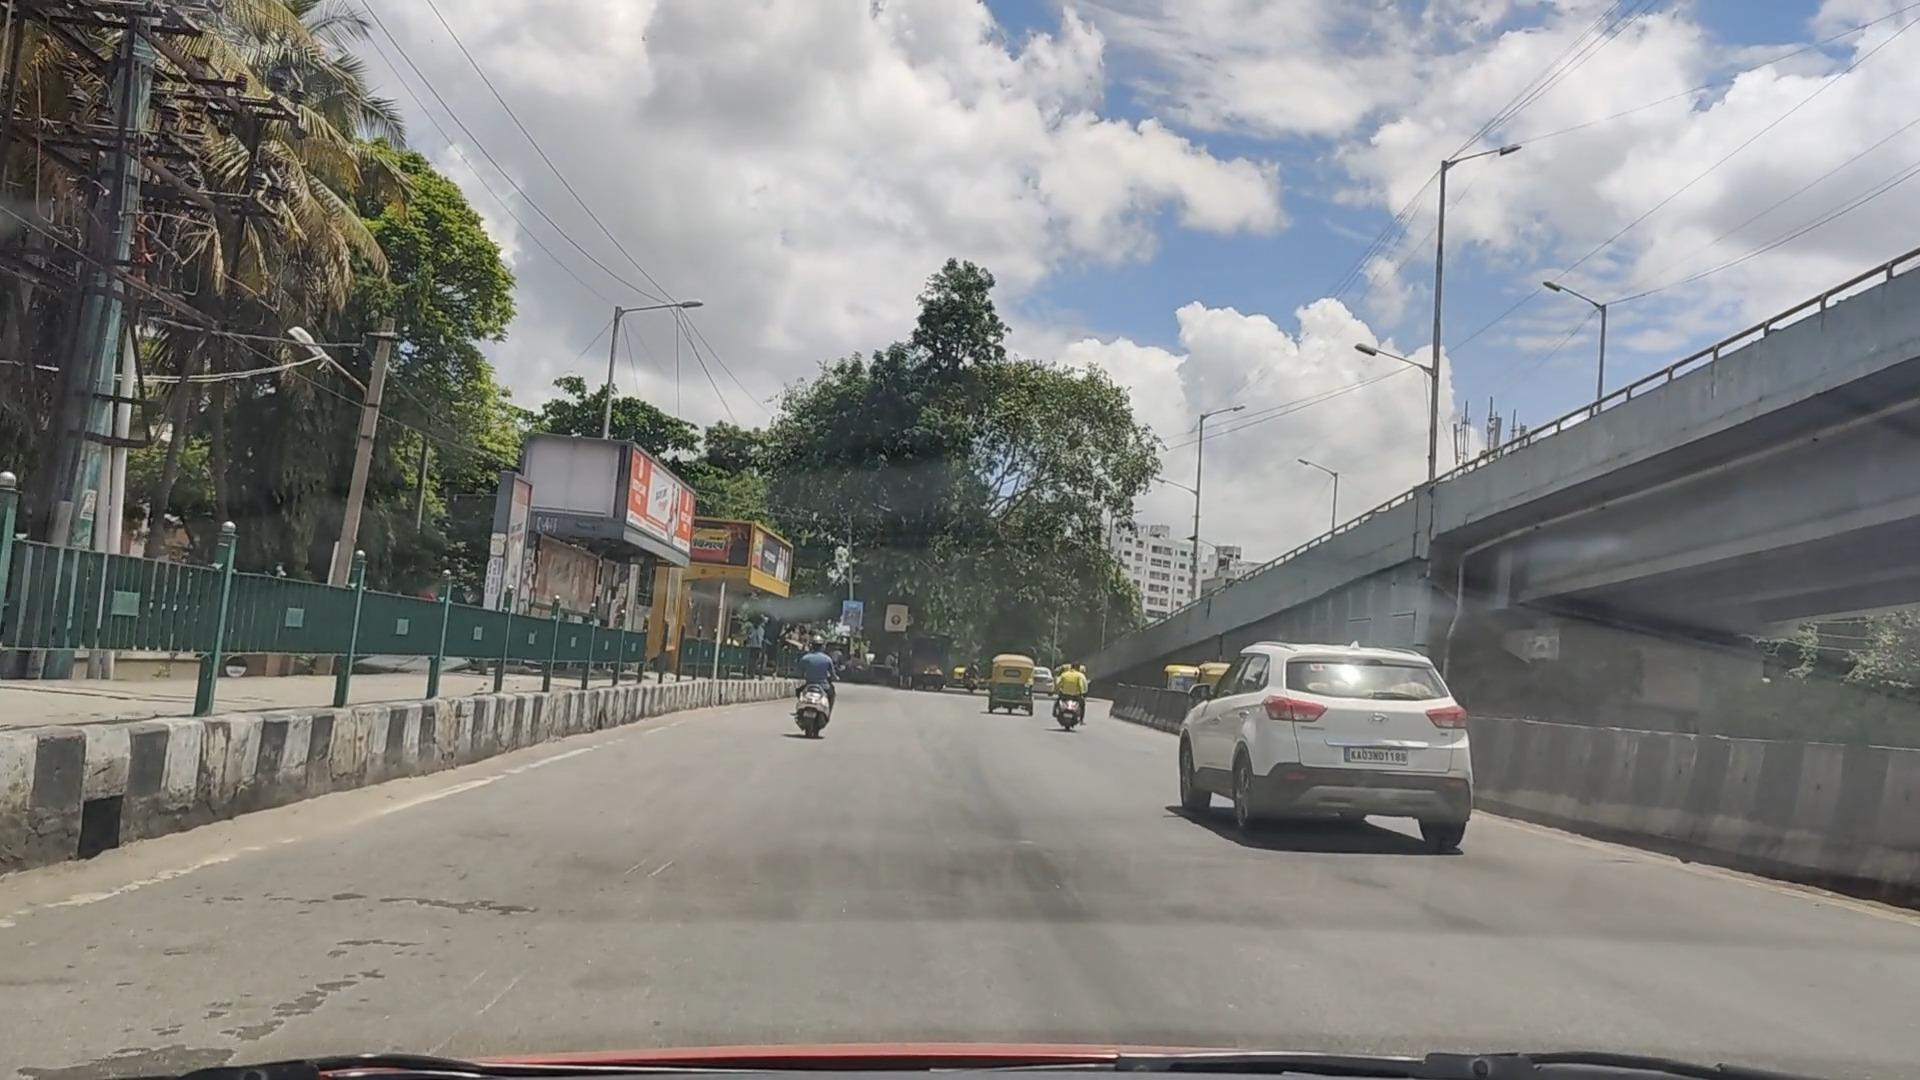LMV: (1203, 609, 1474, 855), (793, 621, 836, 744)
RoadDamages: (83, 964, 290, 1072)
